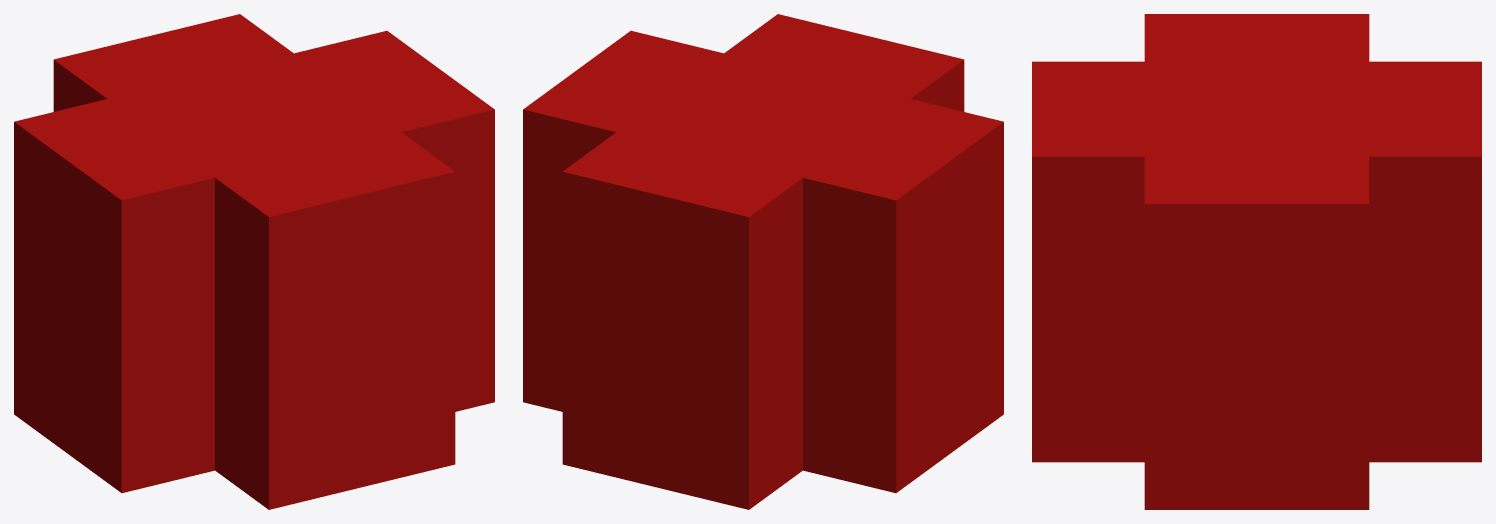
Rendered from news_helicopter_beacon.glb.
The picture shows the model from 3 angles, left to right: view 1: azimuth 30°, elevation 25°; view 2: azimuth 150°, elevation 25°; view 3: azimuth 270°, elevation 25°; orthographic projection. The views are drawn at different scales.
Parts seen in each view (by area): view 1: body:compound; view 2: body:compound; view 3: body:compound.
Part boxes in pixels (x1,y1,x2,y2): body:compound: [14, 14, 494, 509]; body:compound: [523, 14, 1003, 509]; body:compound: [1032, 14, 1481, 509].
Bounding box in the file's own units: 0.125 × 0.0938 × 0.125.
